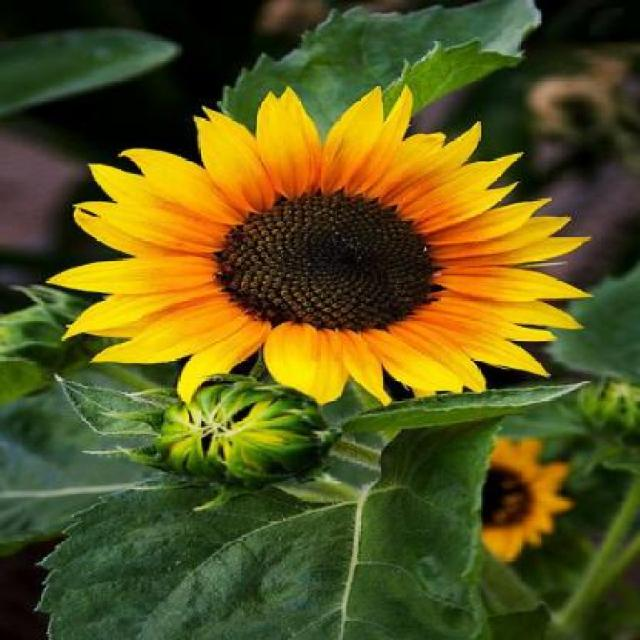sunflower: (52, 98, 592, 420), (478, 429, 577, 568)
